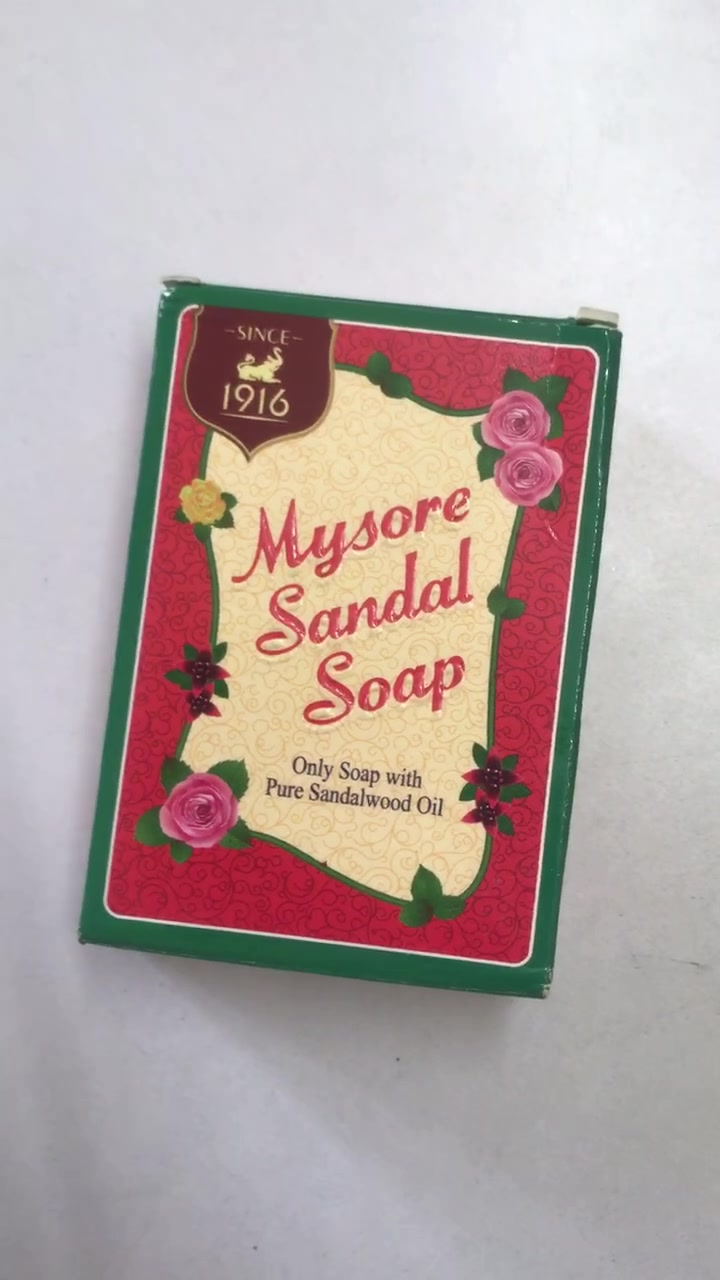mysore sandal soap: (76, 278, 612, 999)
